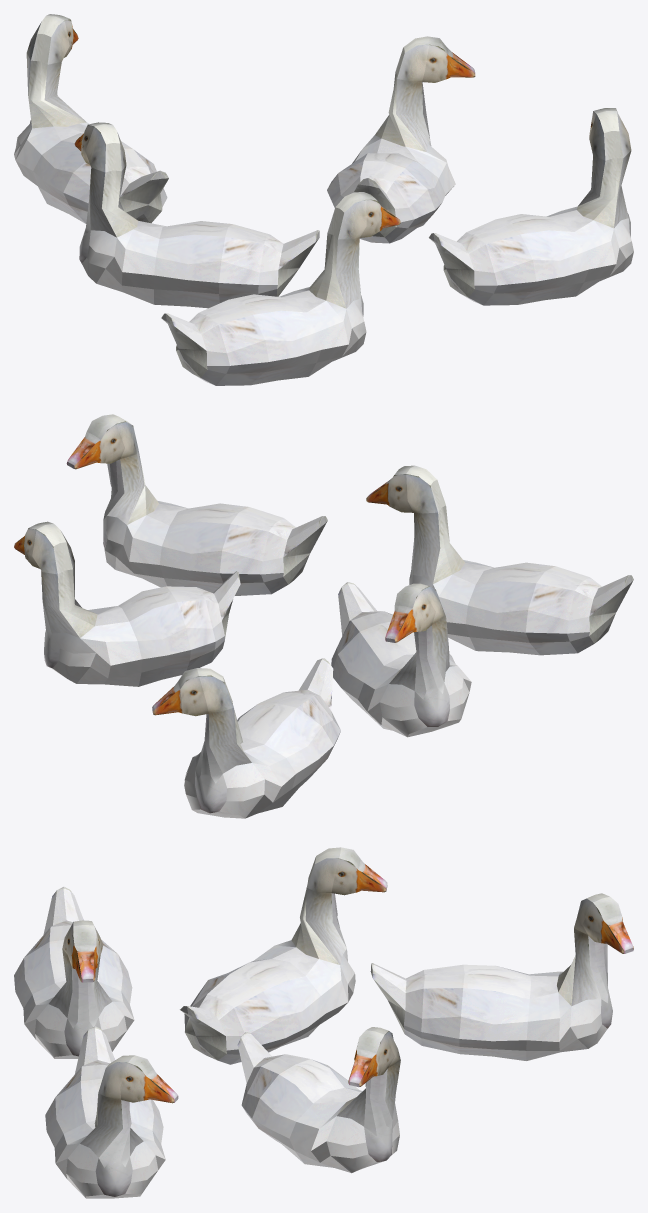
Rendered from geese.fbx.
The picture shows the model from 3 angles, top to bottom: view 1: azimuth 30°, elevation 25°; view 2: azimuth 150°, elevation 25°; view 3: azimuth 270°, elevation 25°; orthographic projection. The views are drawn at different scales.
Parts seen in each view (by area): view 1: M_goose3, geese10_unwrap:main_goose, main_goose, M_goose1, M_goose4; view 2: main_goose, geese10_unwrap:main_goose, M_goose1, M_goose4, M_goose3; view 3: M_goose4, M_goose3, M_goose1, main_goose, geese10_unwrap:main_goose.
Part boxes in pixels (<box>): M_goose3: <box>74,122,319,308</box>; geese10_unwrap:main_goose: <box>161,192,400,385</box>; main_goose: <box>429,108,633,305</box>; M_goose1: <box>327,36,475,243</box>; M_goose4: <box>14,14,168,223</box>; main_goose: <box>66,414,327,595</box>; geese10_unwrap:main_goose: <box>366,465,633,655</box>; M_goose1: <box>14,521,240,686</box>; M_goose4: <box>152,658,340,818</box>; M_goose3: <box>331,582,471,737</box>; M_goose4: <box>370,893,633,1060</box>; M_goose3: <box>180,847,387,1064</box>; M_goose1: <box>237,1027,400,1173</box>; main_goose: <box>45,1026,178,1198</box>; geese10_unwrap:main_goose: <box>14,886,134,1058</box>.
Bounding box in the file's own units: 133 × 42.38 × 143.
Materials: 2 (2 with a texture image).
